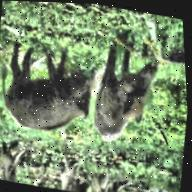boar: (0, 40, 103, 141), (85, 38, 166, 152)
